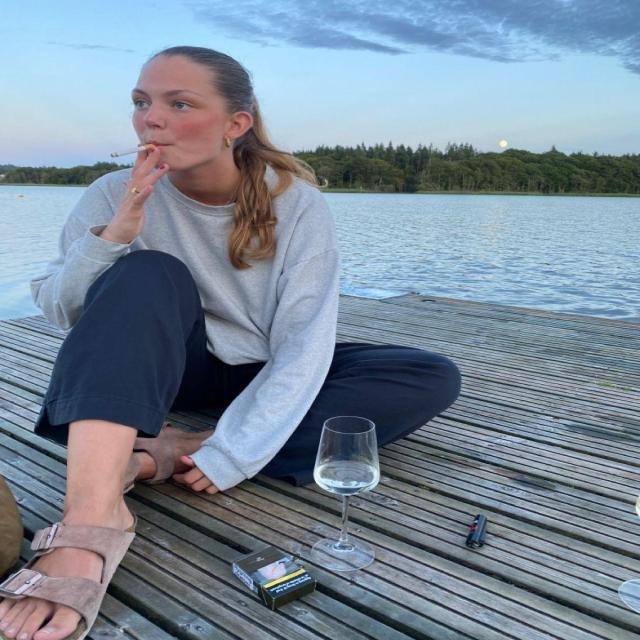cigarette: (94, 132, 176, 169)
